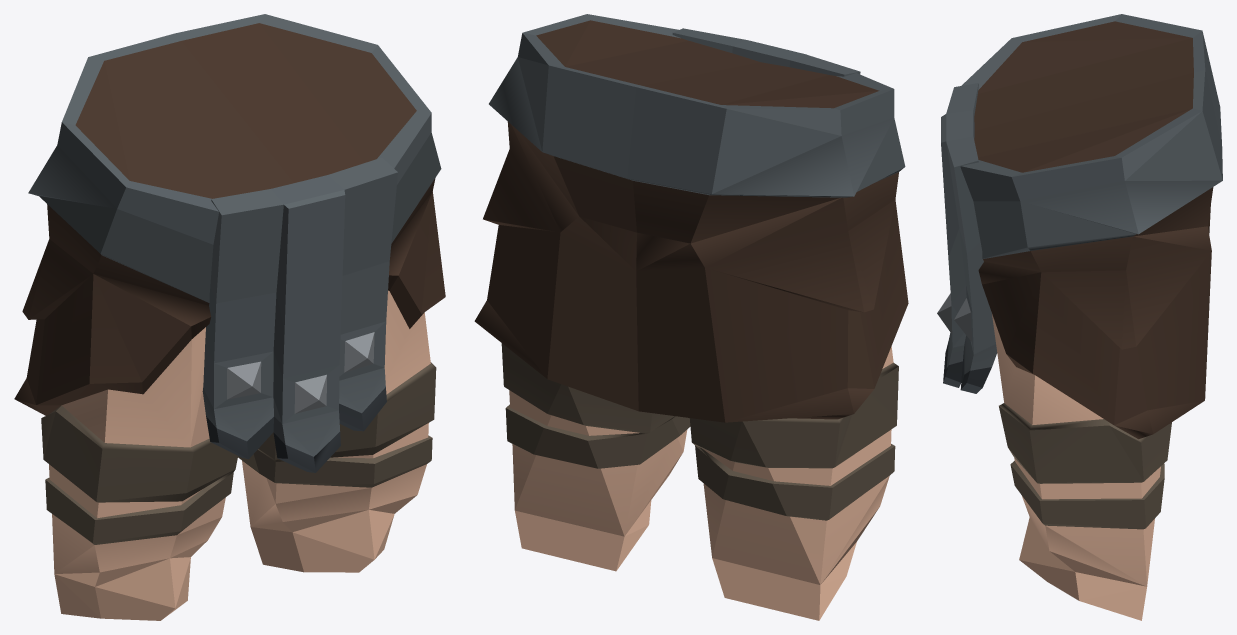
Rendered from Chr_Hips_Male_01_Static.fbx.
3 renders of one model, left to right at view 1: azimuth 30°, elevation 25°; view 2: azimuth 150°, elevation 25°; view 3: azimuth 270°, elevation 25°, orthographic. The views are drawn at different scales.
Visible parts, largest first — view 1: Chr_Hips_Male_01_Static; view 2: Chr_Hips_Male_01_Static; view 3: Chr_Hips_Male_01_Static.
Boxes of the visible parts, box(x1,y1,x2,y2) form: Chr_Hips_Male_01_Static: box(14, 14, 445, 620); Chr_Hips_Male_01_Static: box(474, 14, 908, 620); Chr_Hips_Male_01_Static: box(937, 14, 1222, 620).
Size of the model in its own units: 0.4274 by 0.554 by 0.2967.
